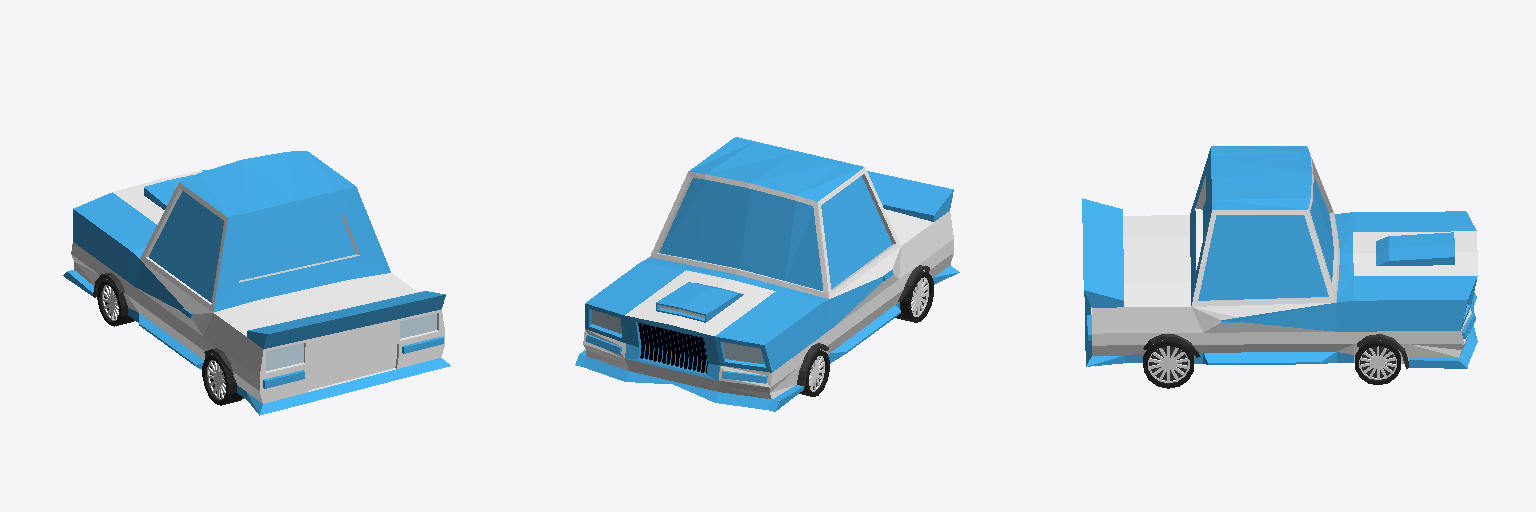
Rendered from Low-Poly-Racing-Car-Grey-Window.obj.
The picture shows the model from 3 angles: view 1: azimuth 30°, elevation 25°; view 2: azimuth 150°, elevation 25°; view 3: azimuth 270°, elevation 25°; orthographic projection.
Parts seen in each view (by area): view 1: body_ID56, backlight_ID75, wheel.1_ID84, wheel1.1_ID93; view 2: body_ID56, lattice.1_ID29, wheel.1_ID84, headlight_ID66, wheel1.1_ID93; view 3: body_ID56, wheel.1_ID84, wheel1.1_ID93.
Part boxes in pixels (x1,y1,x2,y2): body_ID56: (63, 151, 450, 415); backlight_ID75: (266, 313, 436, 370); wheel.1_ID84: (202, 354, 243, 405); wheel1.1_ID93: (97, 279, 134, 326); body_ID56: (575, 137, 959, 411); lattice.1_ID29: (638, 323, 707, 373); wheel.1_ID84: (895, 271, 933, 322); headlight_ID66: (592, 310, 764, 363); wheel1.1_ID93: (799, 350, 829, 396); body_ID56: (1082, 146, 1477, 368); wheel.1_ID84: (1143, 340, 1193, 388); wheel1.1_ID93: (1355, 340, 1400, 384).
Bounding box in the file's own units: 1.39 × 1.11 × 2.37.